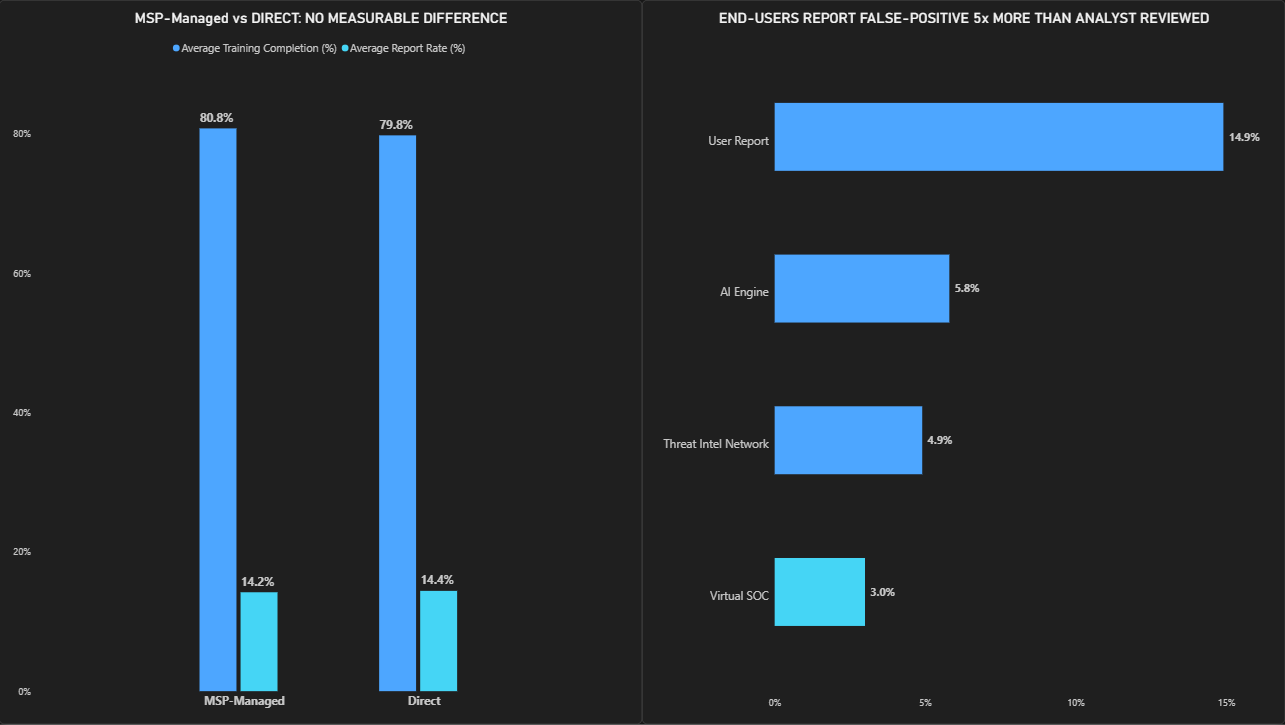

This screenshot's page, from the dashboard's own definition file:
{"tool":"powerbi","page":{"name":"How Reliable is the Operation? (Viz 3)","canvas":[1920,1080],"ordinal":12},"visuals":[{"type":"clusteredColumnChart","title":"MSP-Managed vs DIRECT: NO MEASURABLE DIFFERENCE","fields":{"Category":["Query 10.service_method"],"Y":["Sum(Query 10.avg_training_completion_pct)","Sum(Query 10.avg_report_rate_pct)"]},"box":[0,0,959.7,1080.6],"z":0},{"type":"clusteredBarChart","title":"END-USERS REPORT FALSE-POSITIVE 5x MORE THAN ANALYST REVIEWED","fields":{"Category":["Query 7.detection_source"],"Y":["Sum(Query 7.false_positive_rate)"]},"box":[959.7,0,959.7,1080.6],"z":1}]}

Visuals, with their boxes in screenshot pixels (x1, y1, x2, y2), scaled from the page's 1920x1080 canvas onto the 1285x725 screenshot:
"MSP-Managed vs DIRECT: NO MEASURABLE DIFFERENCE" clusteredColumnChart: crop(0, 0, 642, 724)
"END-USERS REPORT FALSE-POSITIVE 5x MORE THAN ANALYST REVIEWED" clusteredBarChart: crop(642, 0, 1284, 724)
